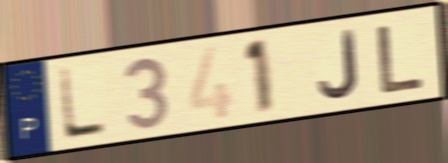1: (242, 36, 276, 117)
3: (121, 53, 171, 132)
4: (186, 43, 237, 122)
J: (316, 26, 363, 102)
L: (56, 65, 109, 143), (376, 22, 428, 97)
